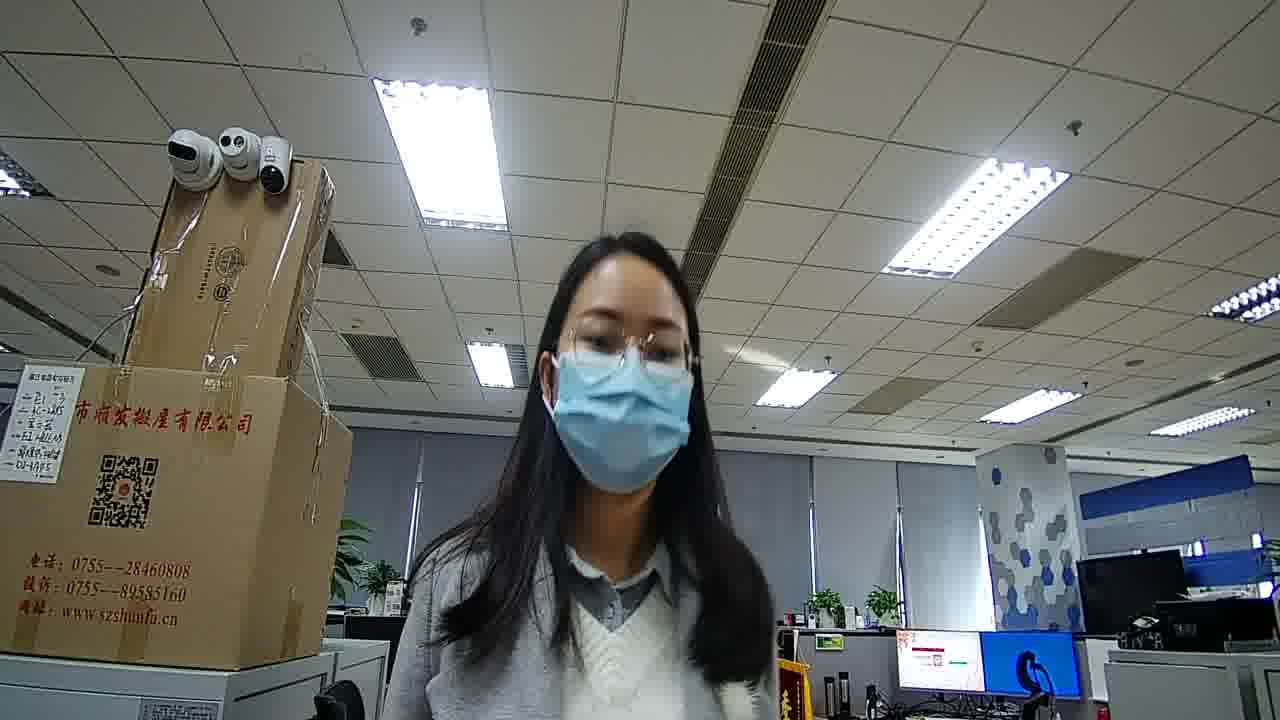face: (543, 261, 699, 499)
mask: (552, 350, 694, 495)
person: (409, 228, 782, 697)
